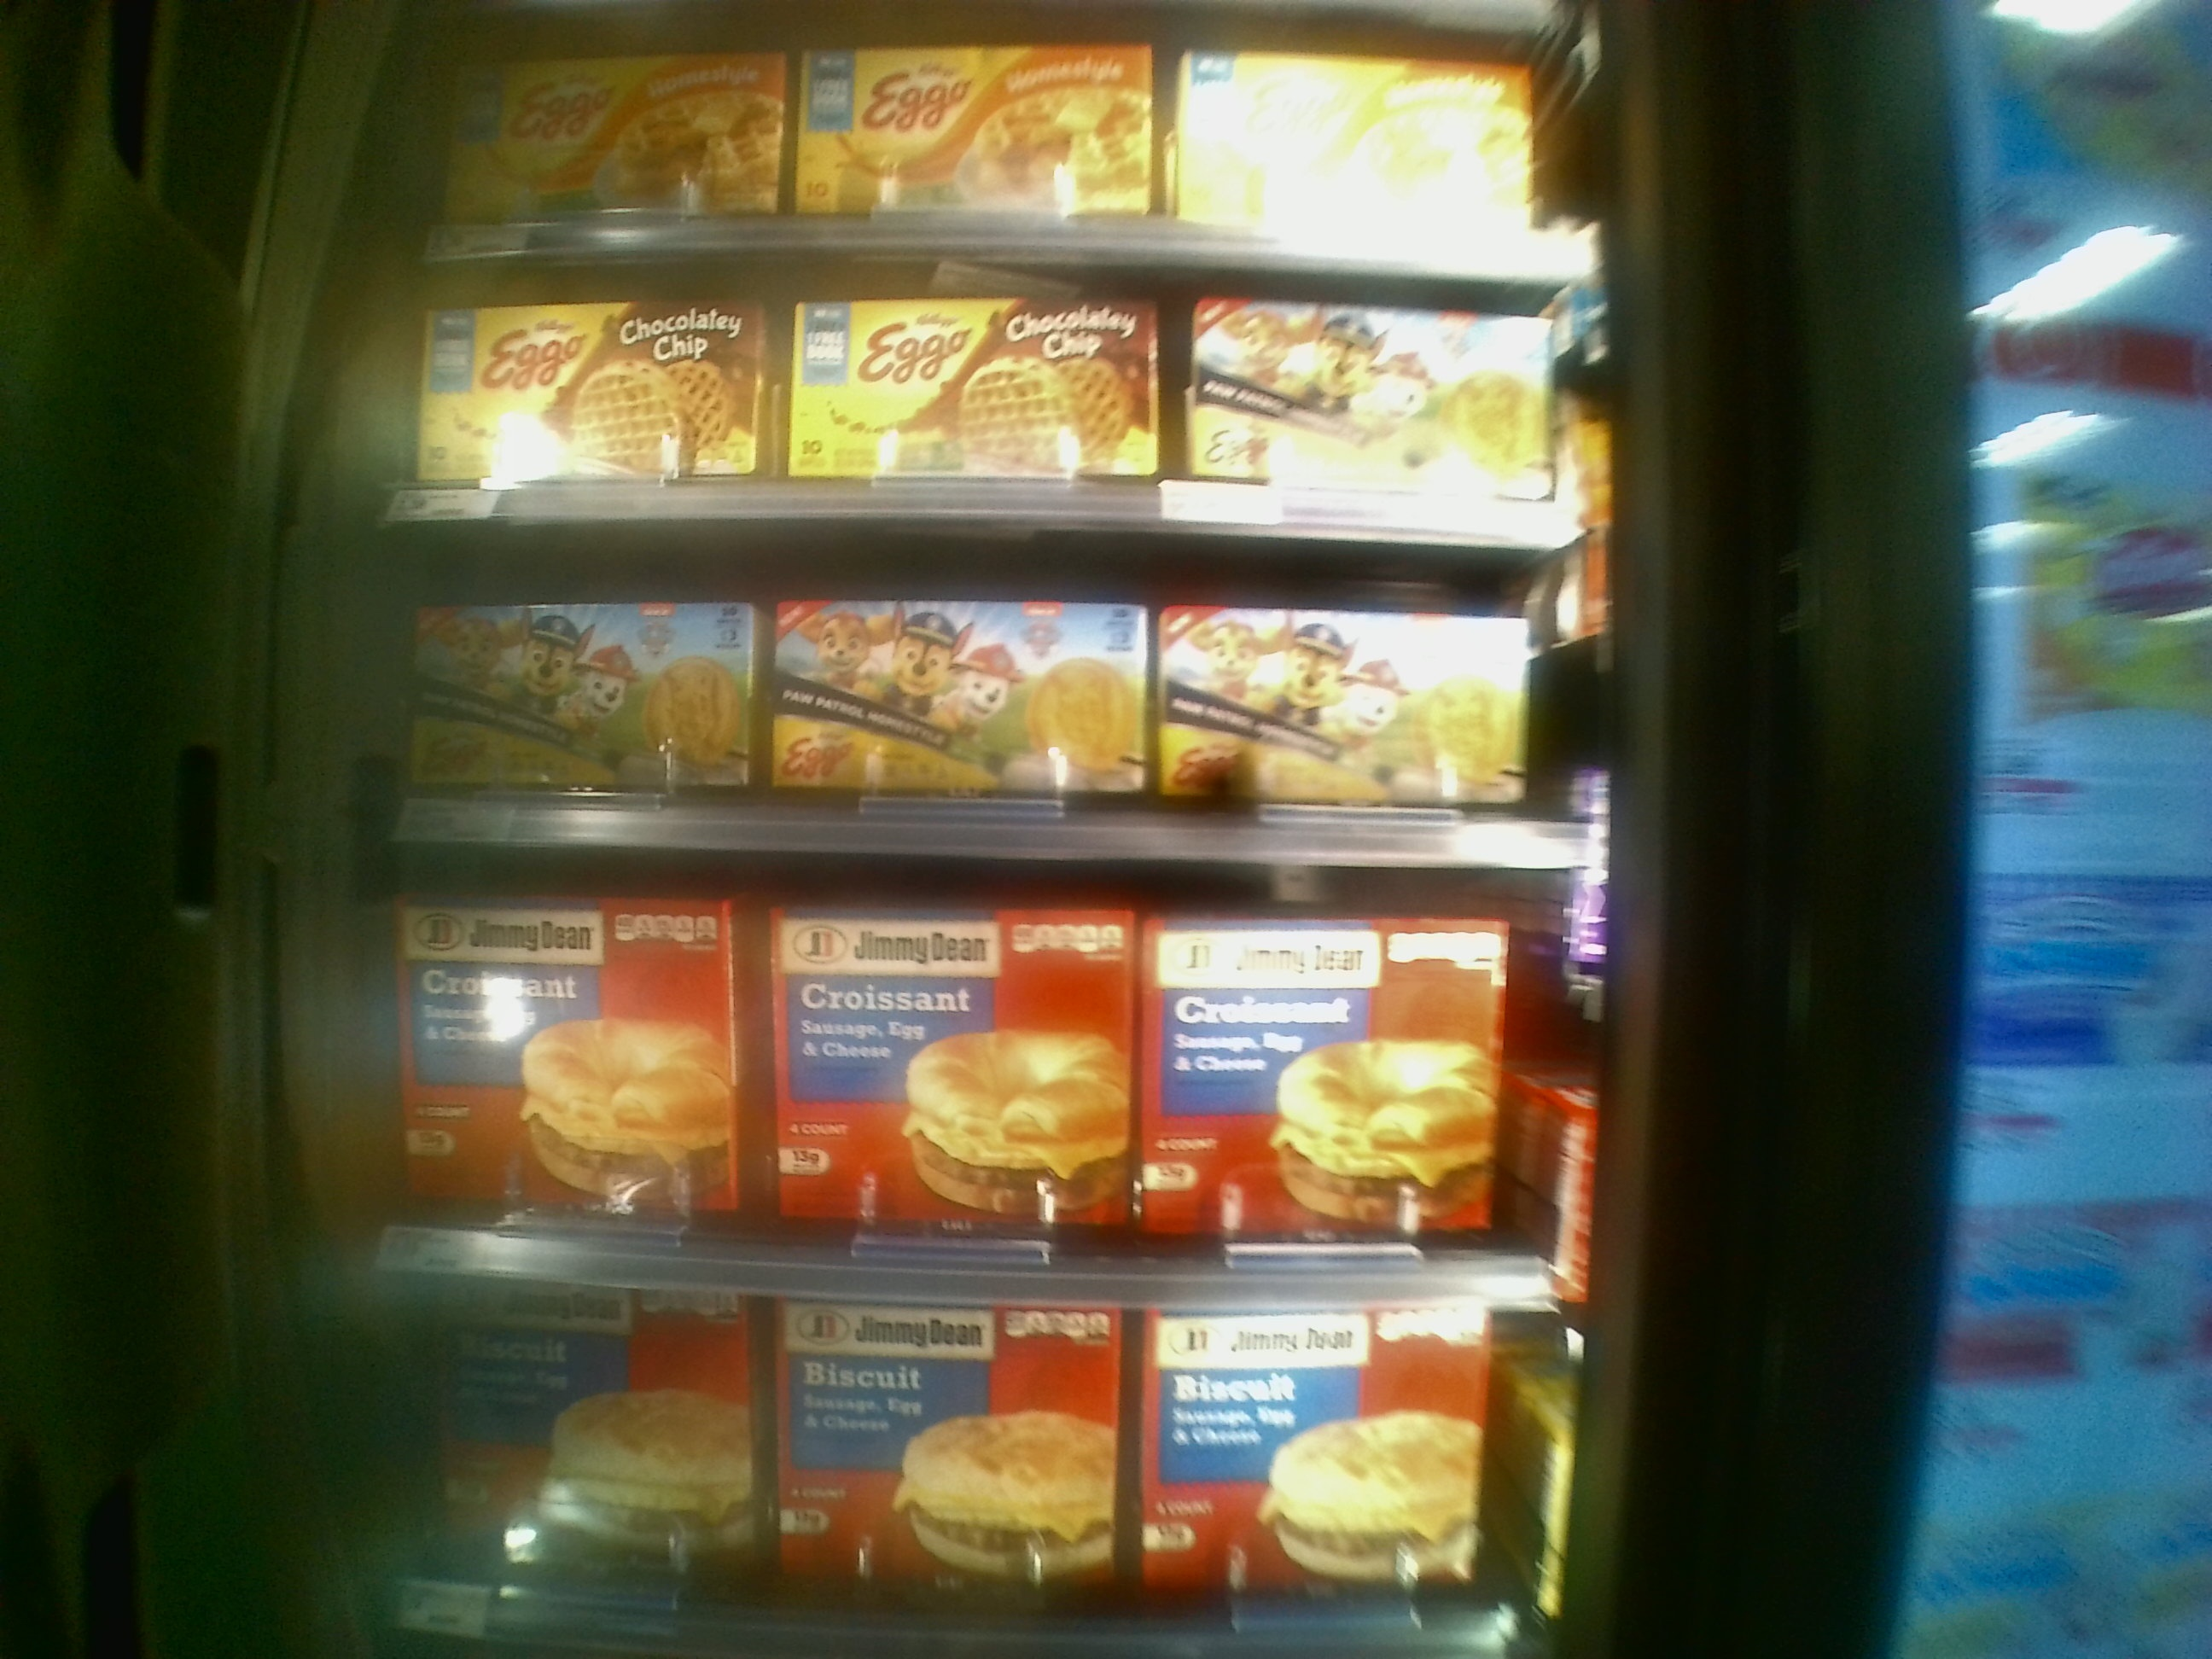frozen-food-shelf: (361, 842, 1571, 1291), (388, 511, 1595, 863)
